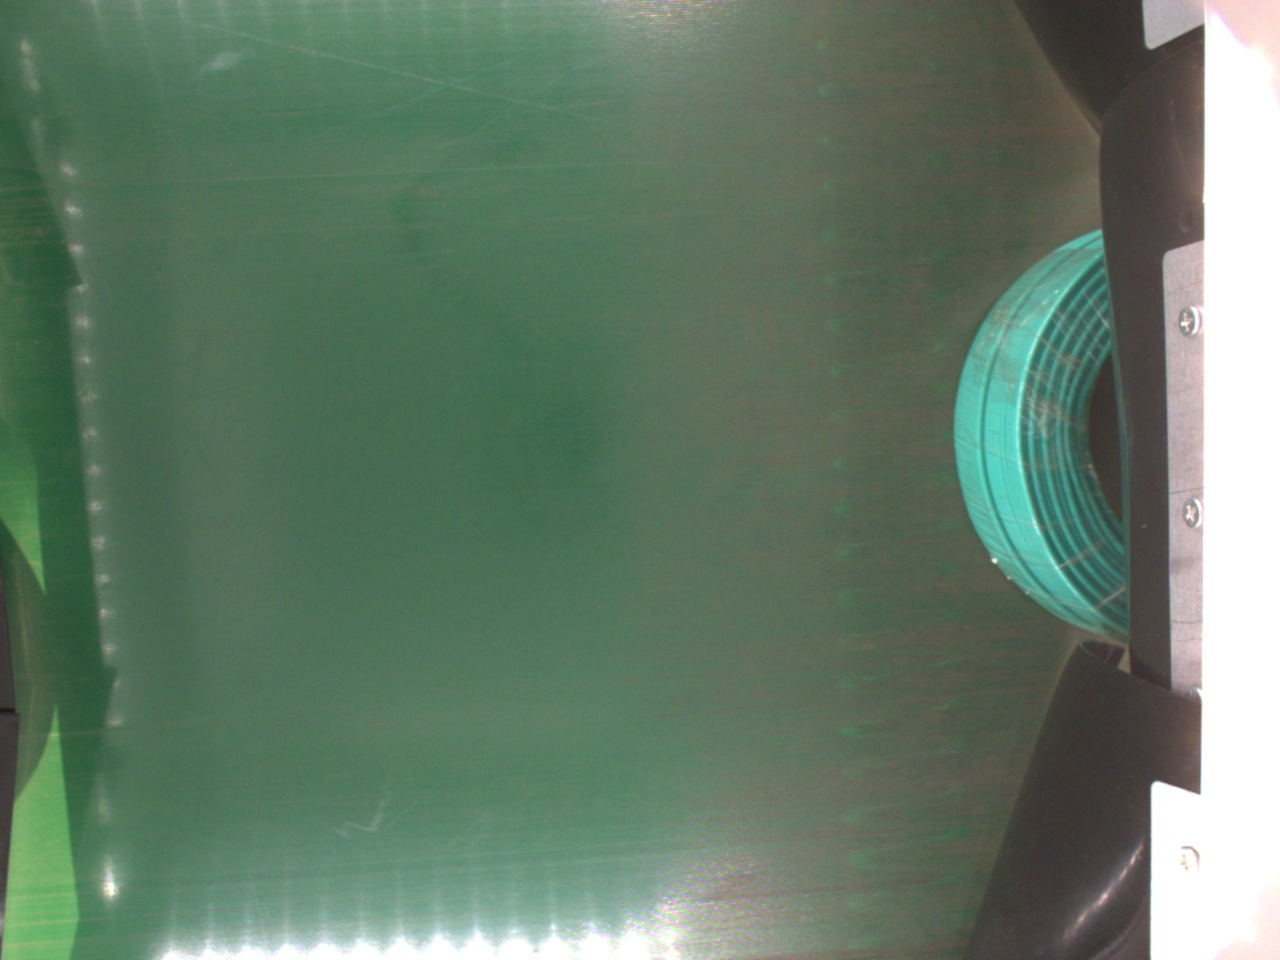green: (951, 227, 1137, 641)
